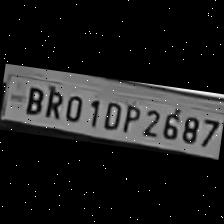0: (60, 90, 86, 125)
1: (84, 95, 104, 130)
2: (137, 104, 161, 138)
6: (158, 106, 182, 142)
7: (197, 114, 221, 149)
8: (177, 111, 200, 145)
B: (20, 82, 46, 118)
D: (99, 97, 124, 132)
P: (118, 101, 142, 136)
R: (40, 84, 65, 120)
